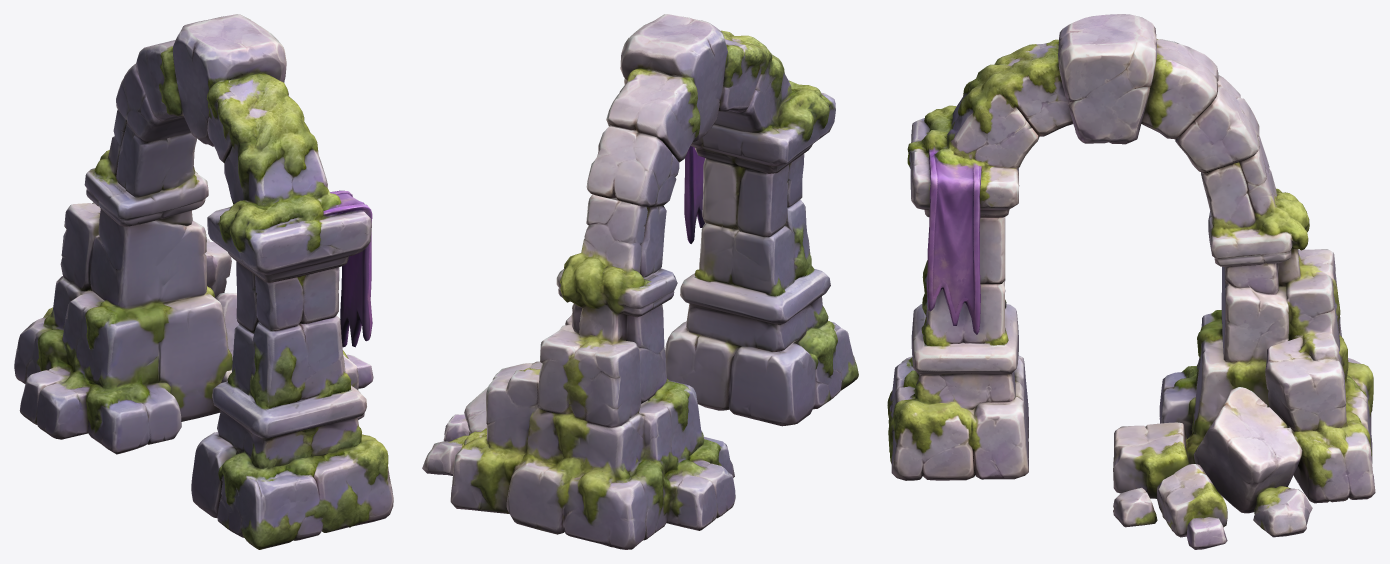
The model's file is R_Arch_A_HD_src.glb.
The picture shows the model from 3 angles, left to right: view 1: azimuth 30°, elevation 25°; view 2: azimuth 150°, elevation 25°; view 3: azimuth 270°, elevation 25°; orthographic projection. The views are drawn at different scales.
Parts seen in each view (by area): view 1: tripo_node_956f6782-7e13-43c2-a1fe-8300badf0cbc; view 2: tripo_node_956f6782-7e13-43c2-a1fe-8300badf0cbc; view 3: tripo_node_956f6782-7e13-43c2-a1fe-8300badf0cbc.
Part boxes in pixels (x1,y1,x2,y2): tripo_node_956f6782-7e13-43c2-a1fe-8300badf0cbc: [14, 14, 393, 549]; tripo_node_956f6782-7e13-43c2-a1fe-8300badf0cbc: [422, 14, 858, 549]; tripo_node_956f6782-7e13-43c2-a1fe-8300badf0cbc: [887, 14, 1375, 549].
Bounding box in the file's own units: 0.7132 × 0.9564 × 0.9808.
1 material, 1 textured.
